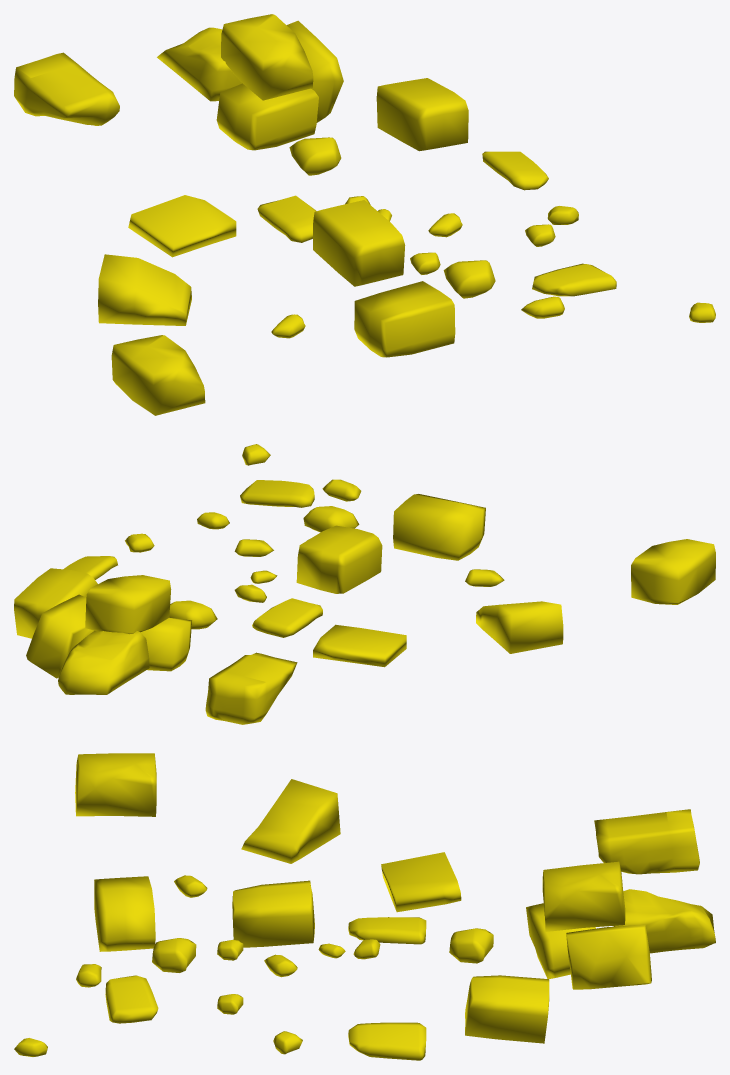
File: Block_Pile_02_Lod0.fbx
3 renders of one model, top to bottom at view 1: azimuth 30°, elevation 25°; view 2: azimuth 150°, elevation 25°; view 3: azimuth 270°, elevation 25°, orthographic. The views are drawn at different scales.
Visible parts, largest first — view 1: Block_Pile_02_Lod0; view 2: Block_Pile_02_Lod0; view 3: Block_Pile_02_Lod0.
Part boxes in pixels (x1,y1,x2,y2): Block_Pile_02_Lod0: (14, 14, 715, 415); Block_Pile_02_Lod0: (14, 444, 715, 724); Block_Pile_02_Lod0: (14, 753, 715, 1060).
Size of the model in its own units: 1850 by 370 by 2124.
